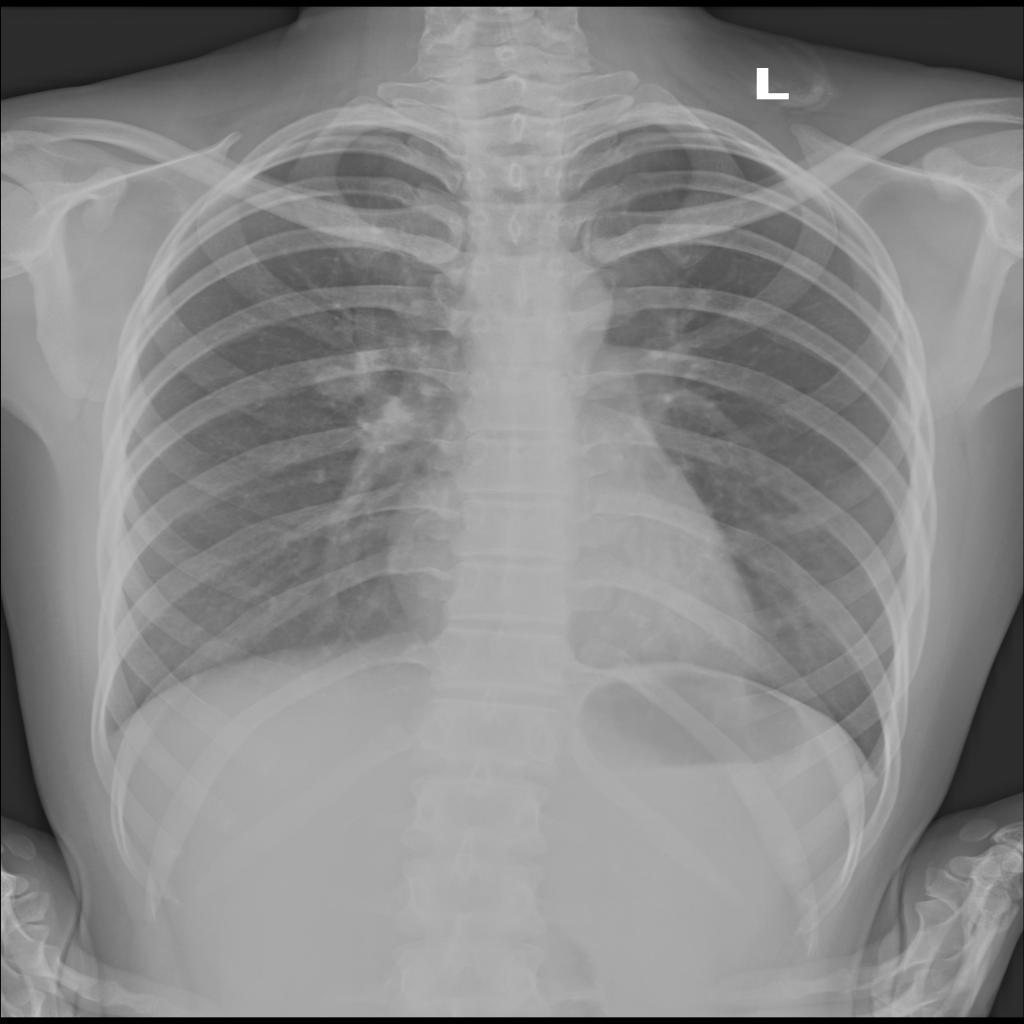Nodule: (314, 365, 365, 402)
